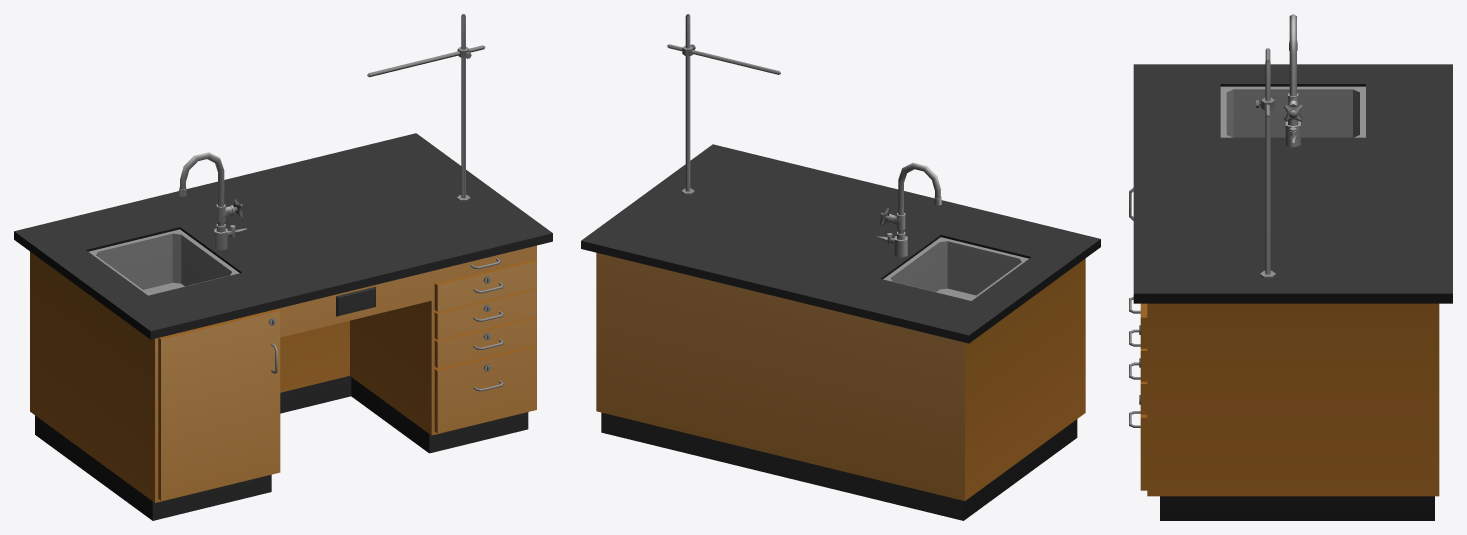
File: CR_sci_Table_001.FBX
The picture shows the model from 3 angles, left to right: view 1: azimuth 30°, elevation 25°; view 2: azimuth 150°, elevation 25°; view 3: azimuth 270°, elevation 25°; orthographic projection. The views are drawn at different scales.
Visible parts, largest first — view 1: CR_sci_Table_001; view 2: CR_sci_Table_001; view 3: CR_sci_Table_001.
Boxes of the visible parts, x1,y1,x2,y2 form: CR_sci_Table_001: [14, 14, 552, 520]; CR_sci_Table_001: [581, 14, 1100, 520]; CR_sci_Table_001: [1129, 14, 1452, 520].
Bounding box in the file's own units: 125 × 115 × 74.83.
